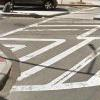Crosswalk: (13, 8, 100, 97)
